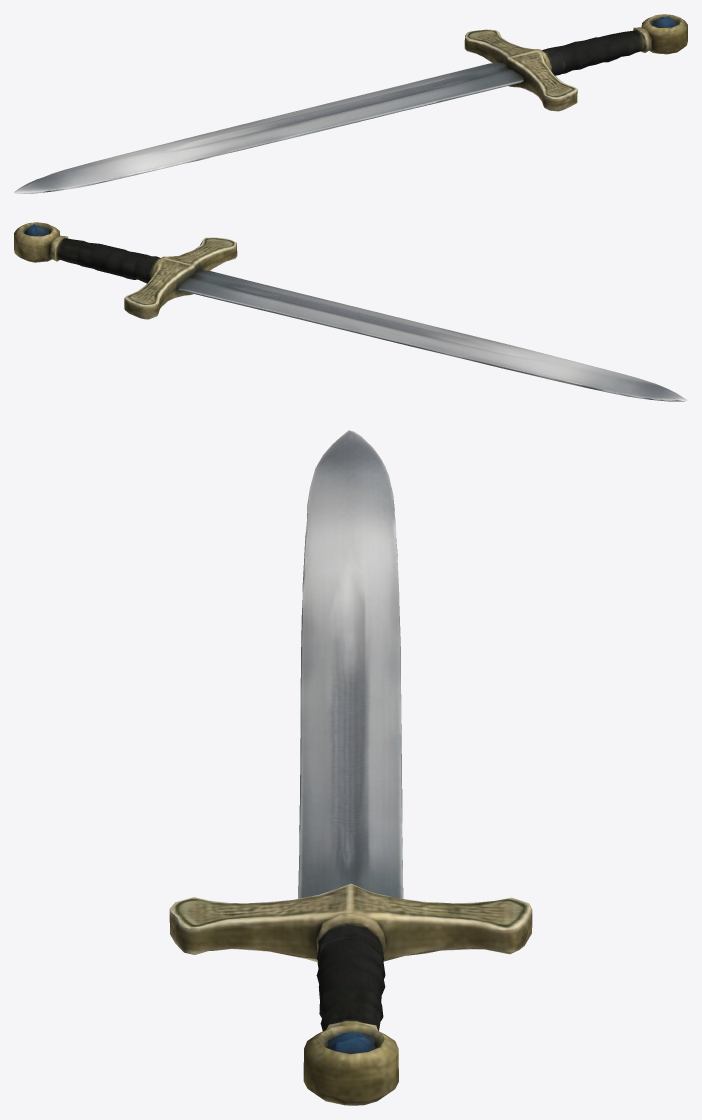
Rendered from wp_excalibur.glb.
3 views of the same model, one above another, from view 1: azimuth 30°, elevation 25°; view 2: azimuth 150°, elevation 25°; view 3: azimuth 270°, elevation 25° (orthographic). The views are drawn at different scales.
Parts seen in each view (by area): view 1: geom0; view 2: geom0; view 3: geom0.
Part boxes in pixels (box(x1,y1,x2,y2)): geom0: box(14, 14, 687, 193); geom0: box(14, 222, 687, 401); geom0: box(169, 430, 532, 1105).
Bounding box in the file's own units: 1 × 0.0433 × 0.2349.
Materials: 1 (1 with a texture image).
